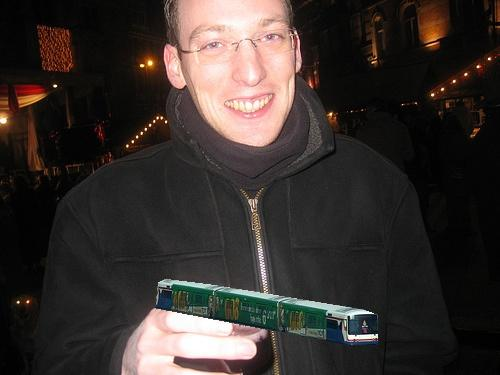tampered: (156, 280, 378, 345)
